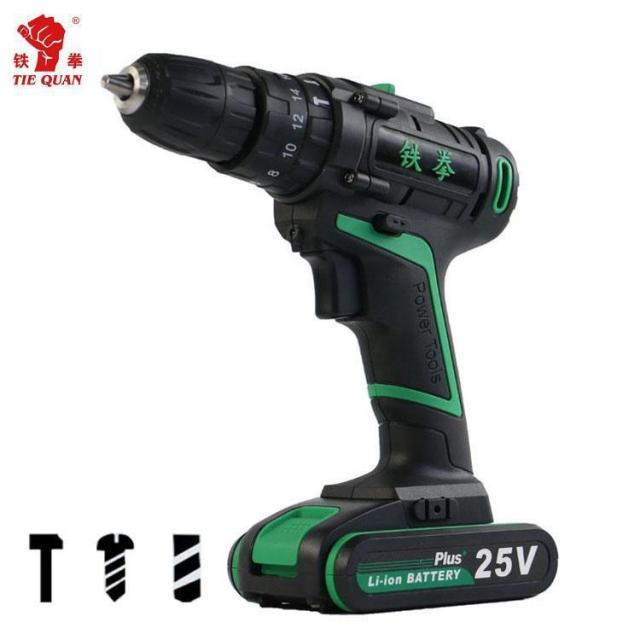drill: (100, 53, 560, 616)
